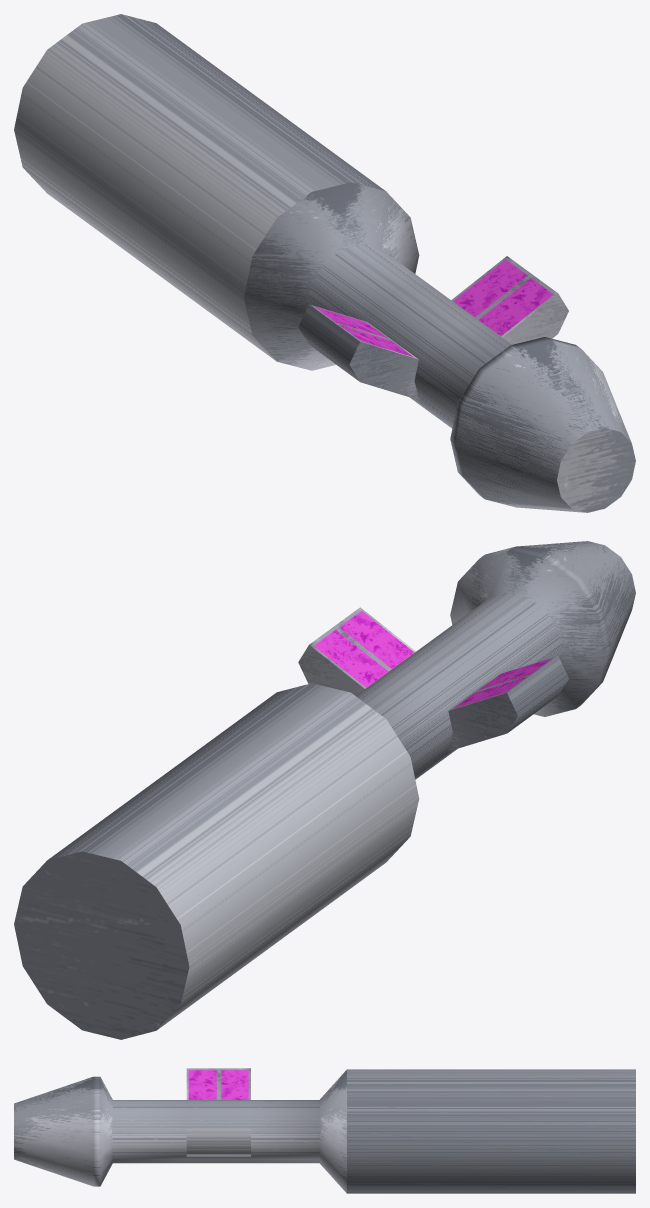
File: Barrel.fbx
3 renders of one model, top to bottom at view 1: azimuth 30°, elevation 25°; view 2: azimuth 150°, elevation 25°; view 3: azimuth 270°, elevation 25°, orthographic. The views are drawn at different scales.
Parts seen in each view (by area): view 1: pCylinder1; view 2: pCylinder1; view 3: pCylinder1.
Part boxes in pixels (bbox=[...]): pCylinder1: bbox=[14, 14, 635, 512]; pCylinder1: bbox=[14, 541, 635, 1039]; pCylinder1: bbox=[14, 1068, 635, 1193].
Bounding box in the file's own units: 1.45 × 1.13 × 5.65.
